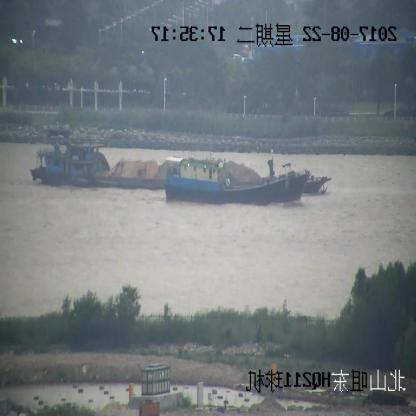Fishing Boat: (166, 150, 308, 202)
